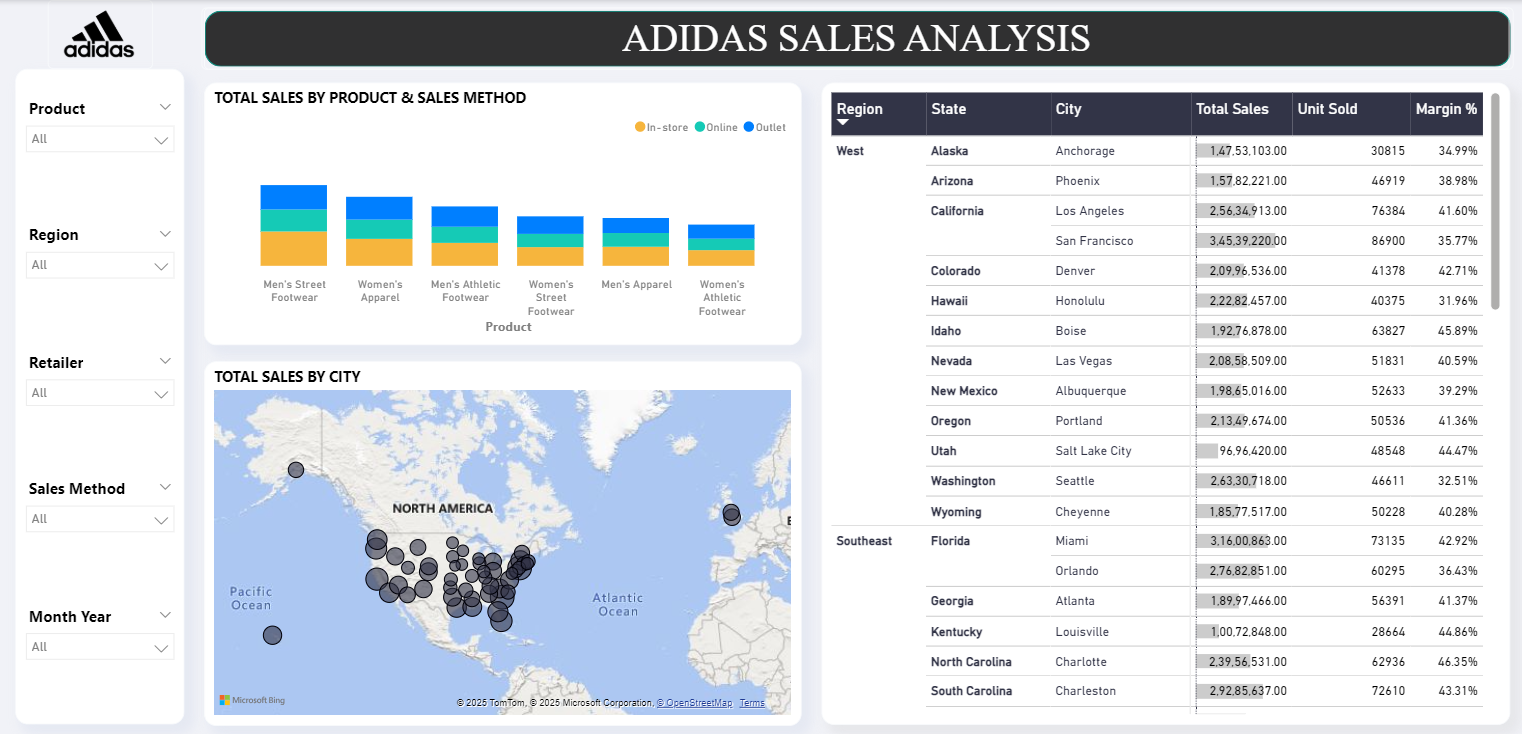

The dashboard page shown, as its layout file describes it:
{"tool":"powerbi","page":{"name":"SALES ANALYSIS ","canvas":[1480,720],"ordinal":1},"visuals":[{"type":"columnChart","title":"TOTAL SALES BY PRODUCT & SALES METHOD","fields":{"Category":["Data Sales Adidas.Product"],"Y":["Measures_.Total Sales"],"Series":["Data Sales Adidas.Sales Method"]},"box":[198.3,80,576.7,253.3],"z":4000},{"type":"map","title":"TOTAL SALES BY CITY","fields":{"Size":["Measures_.Total Sales"],"Category":["Data Sales Adidas.City"]},"box":[198.3,348.3,576.7,351.7],"z":5000},{"type":"pivotTable","fields":{"Rows":["Data Sales Adidas.Region","Data Sales Adidas.State","Data Sales Adidas.City"],"Values":["Measures_.Total Sales","Measures_.Unit Sold","Measures_.Operating Margin"]},"box":[793.3,80,665,620],"z":8000},{"type":"shape","box":[15.9,66.6,163.4,633.1],"z":9000},{"type":"slicer","fields":{"Values":["Data Sales Adidas.Product"]},"box":[15.9,88.9,163.4,93.6],"z":10000},{"type":"slicer","fields":{"Values":["Data Sales Adidas.Region"]},"box":[15.9,211.4,163.4,93.6],"z":11000},{"type":"slicer","fields":{"Values":["Data Sales Adidas.Retailer"]},"box":[15.9,334,163.4,93.6],"z":12000},{"type":"slicer","fields":{"Values":["Data Sales Adidas.Sales Method"]},"box":[15.9,456.6,163.4,93.6],"z":13000},{"type":"slicer","fields":{"Values":["Data Sales Adidas.Month Year"]},"box":[15.9,579.1,163.4,93.6],"z":14000},{"type":"image","box":[47.6,0,101.5,66.6],"z":15000},{"type":"shape","box":[195,6.7,1266.7,60],"z":16000},{"type":"textbox","box":[198.3,6.7,1260,60],"z":17000}]}

Visuals, with their boxes in screenshot pixels (x1, y1, x2, y2), scaled from the page's 1480x720 canvas onto the 1522x734 screenshot:
"TOTAL SALES BY PRODUCT & SALES METHOD" columnChart: x1=204 y1=82 x2=797 y2=340
"TOTAL SALES BY CITY" map: x1=204 y1=355 x2=797 y2=714
pivotTable - Data Sales Adidas.Region x Data Sales Adidas.State: x1=816 y1=82 x2=1500 y2=714
shape: x1=16 y1=68 x2=184 y2=713
slicer - Data Sales Adidas.Product: x1=16 y1=91 x2=184 y2=186
slicer - Data Sales Adidas.Region: x1=16 y1=216 x2=184 y2=311
slicer - Data Sales Adidas.Retailer: x1=16 y1=340 x2=184 y2=436
slicer - Data Sales Adidas.Sales Method: x1=16 y1=465 x2=184 y2=561
slicer - Data Sales Adidas.Month Year: x1=16 y1=590 x2=184 y2=686
image: x1=49 y1=0 x2=153 y2=68
shape: x1=201 y1=7 x2=1503 y2=68
textbox: x1=204 y1=7 x2=1500 y2=68
